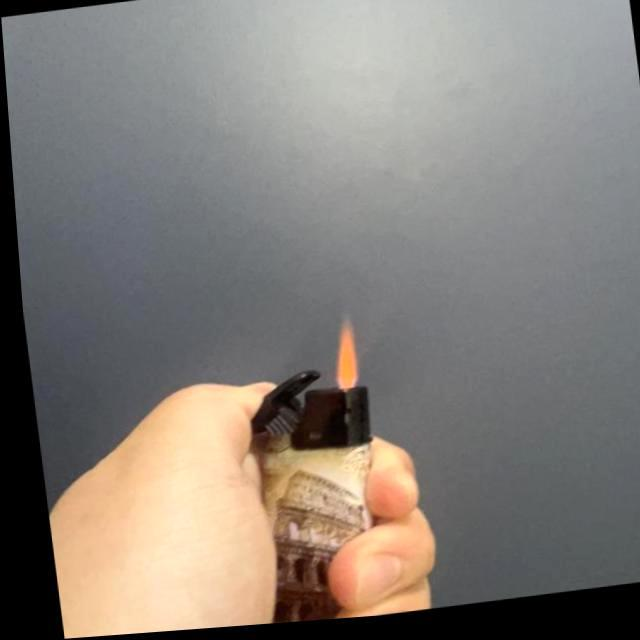fire: (319, 318, 357, 396)
